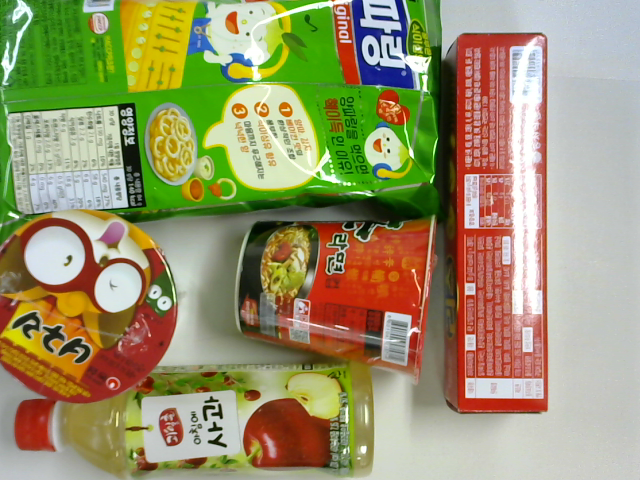Morning_Apple_500ml: (14, 360, 376, 480)
Oninon_Ring: (1, 1, 445, 241)
Ritz_Cracker: (439, 32, 548, 416)
Sinramen_small: (232, 215, 439, 387), (1, 212, 176, 404)
